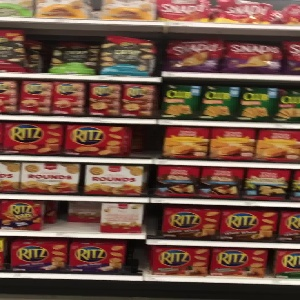void: (45, 203, 102, 234), (126, 126, 165, 157)
